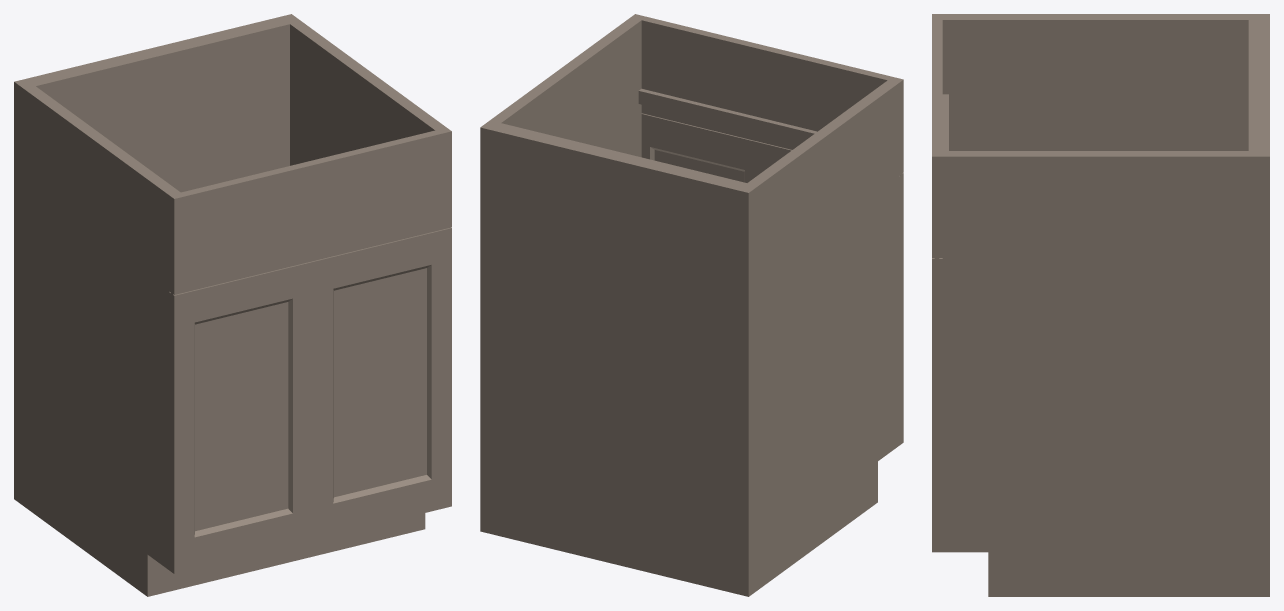
Rendered from Sink-Base-Cabinet-Double-Door-False-Drawer_std_001_W24in.glb.
3 renders of one model, left to right at view 1: azimuth 30°, elevation 25°; view 2: azimuth 150°, elevation 25°; view 3: azimuth 270°, elevation 25°, orthographic. The views are drawn at different scales.
Parts seen in each view (by area): view 1: Sink-Base-Cabinet-Double-Door-False-Drawer.std.001_W24in; view 2: Sink-Base-Cabinet-Double-Door-False-Drawer.std.001_W24in; view 3: Sink-Base-Cabinet-Double-Door-False-Drawer.std.001_W24in.
Boxes of the visible parts, left/top/right/bottom form: Sink-Base-Cabinet-Double-Door-False-Drawer.std.001_W24in: left=14, top=14, right=451, bottom=596; Sink-Base-Cabinet-Double-Door-False-Drawer.std.001_W24in: left=480, top=14, right=903, bottom=596; Sink-Base-Cabinet-Double-Door-False-Drawer.std.001_W24in: left=932, top=14, right=1269, bottom=596.
Size of the model in its own units: 0.6096 by 0.8763 by 0.6096.
